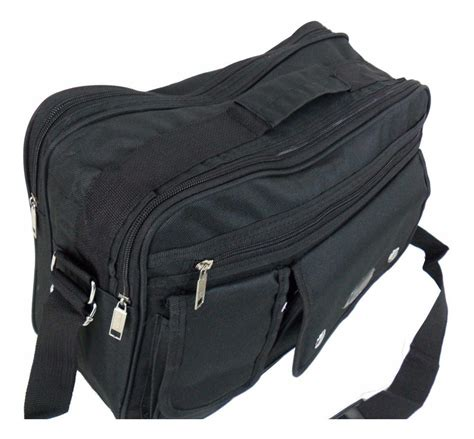nylon: (21, 19, 432, 418)
